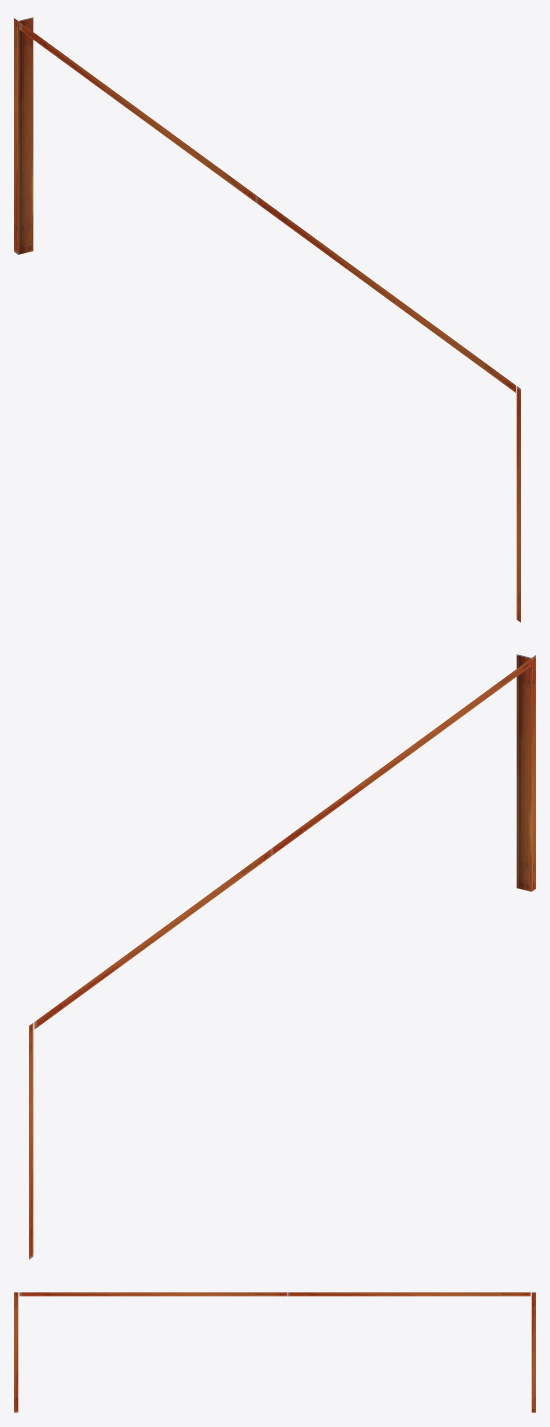
3 renders of one model, top to bottom at view 1: azimuth 30°, elevation 25°; view 2: azimuth 150°, elevation 25°; view 3: azimuth 270°, elevation 25°, orthographic. The views are drawn at different scales.
Parts seen in each view (by area): view 1: Box23; view 2: Box23; view 3: Box23.
Part boxes in pixels (x1,y1,x2,y2): Box23: (14, 17, 520, 622); Box23: (29, 654, 535, 1259); Box23: (14, 1292, 535, 1412).
Size of the model in its own units: 32.84 by 490 by 1924.
Materials: 1 (1 with a texture image).
